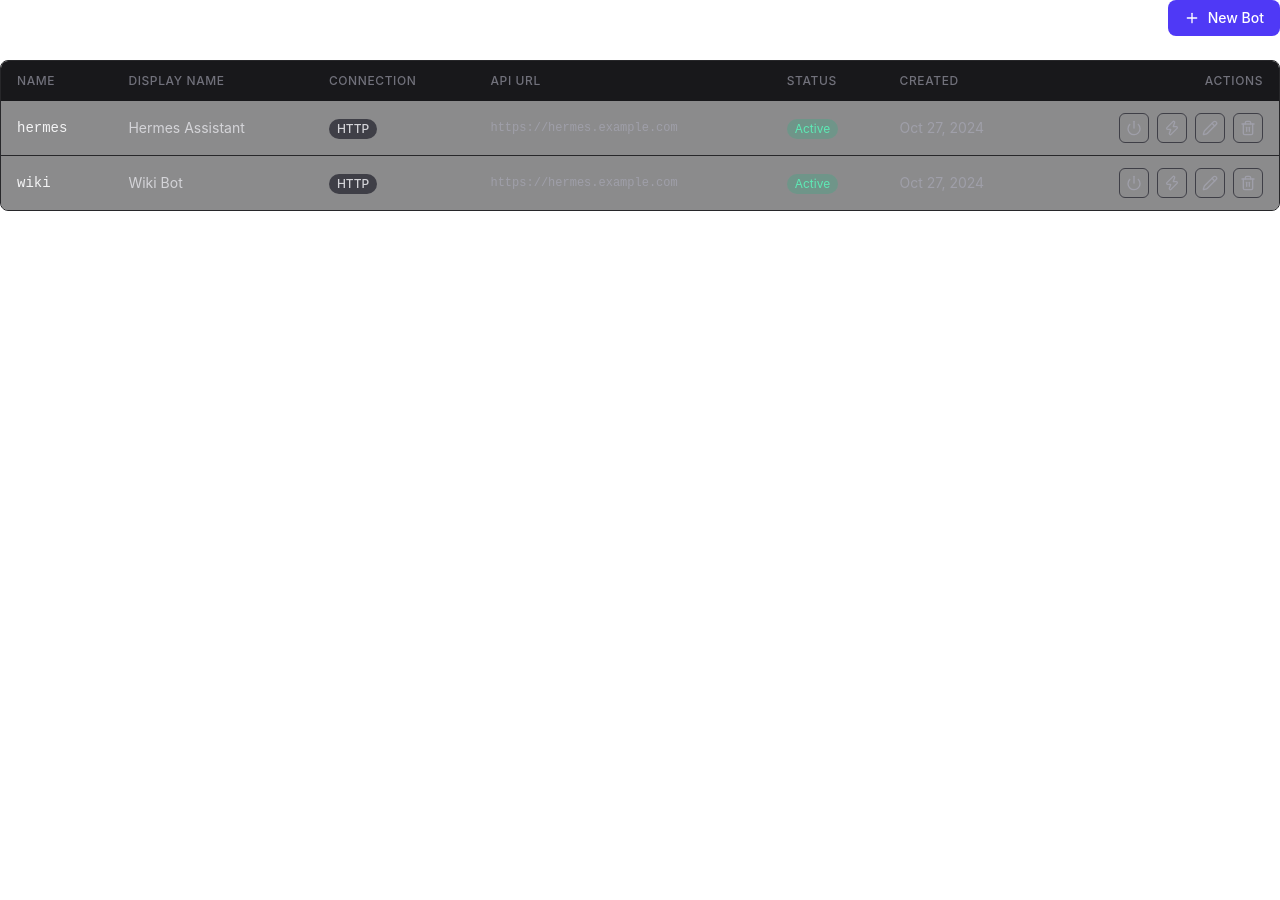
Test case: AdminBotsPage › opens edit modal with prefilled fields
Click the button named "Edit hermes". click: (1210, 128)
box: [1195, 113, 1225, 143]
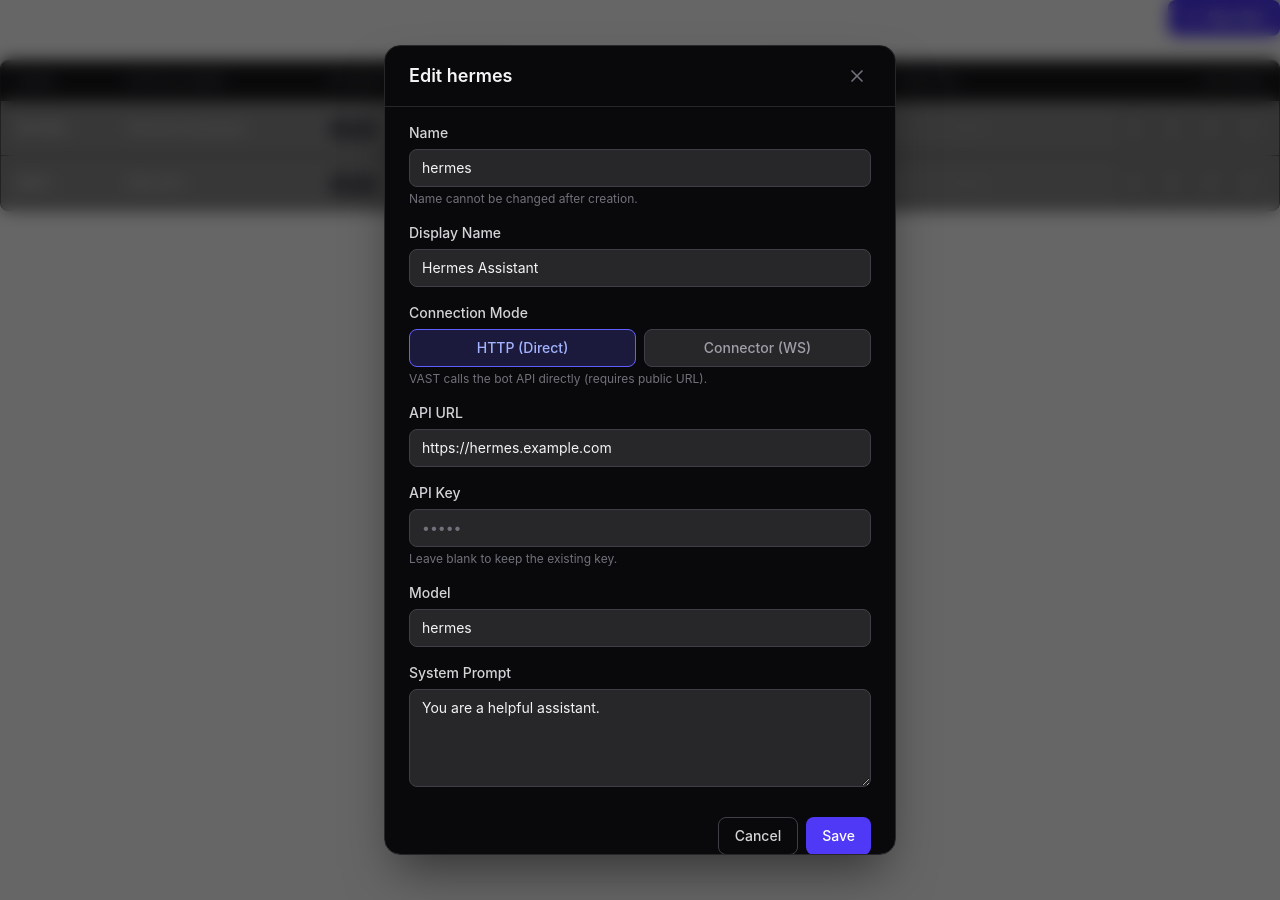
Expected: the field with id "bot-name" holds "hermes", [409, 149, 871, 187]
Expected: the field with id "bot-api-url" holds "https://hermes.example.com", [409, 429, 871, 467]
Expected: the text box with id "bot-system-prompt" holds "You are a helpful assistant.", [409, 689, 871, 787]
